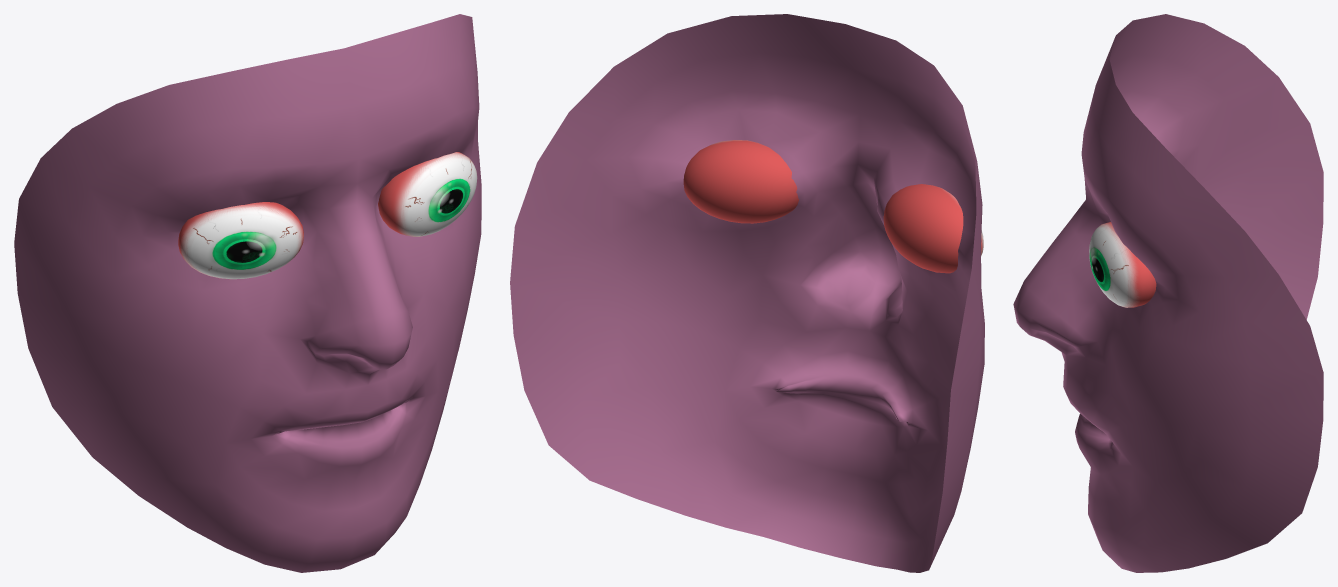
File: Eyes.glb
The picture shows the model from 3 angles, left to right: view 1: azimuth 30°, elevation 25°; view 2: azimuth 150°, elevation 25°; view 3: azimuth 270°, elevation 25°; orthographic projection. The views are drawn at different scales.
Visible parts, largest first — view 1: OccluderFace, EyeR, EyeL; view 2: OccluderFace, EyeL, EyeR; view 3: OccluderFace, EyeL.
Boxes of the visible parts, x1,y1,x2,y2 form: OccluderFace: (14,14,481,572); EyeR: (178,202,303,279); EyeL: (378,152,477,236); OccluderFace: (510,14,984,572); EyeL: (683,140,798,223); EyeR: (883,184,983,273); OccluderFace: (1013,14,1323,572); EyeL: (1089,222,1156,307).
Bounding box in the file's own units: 15.49 × 17.67 × 10.02.
2 materials, 1 textured.
